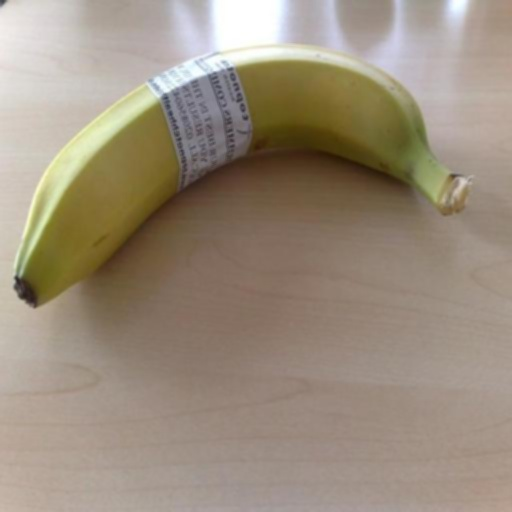fruit: (0, 76, 360, 340), (402, 67, 462, 239)
